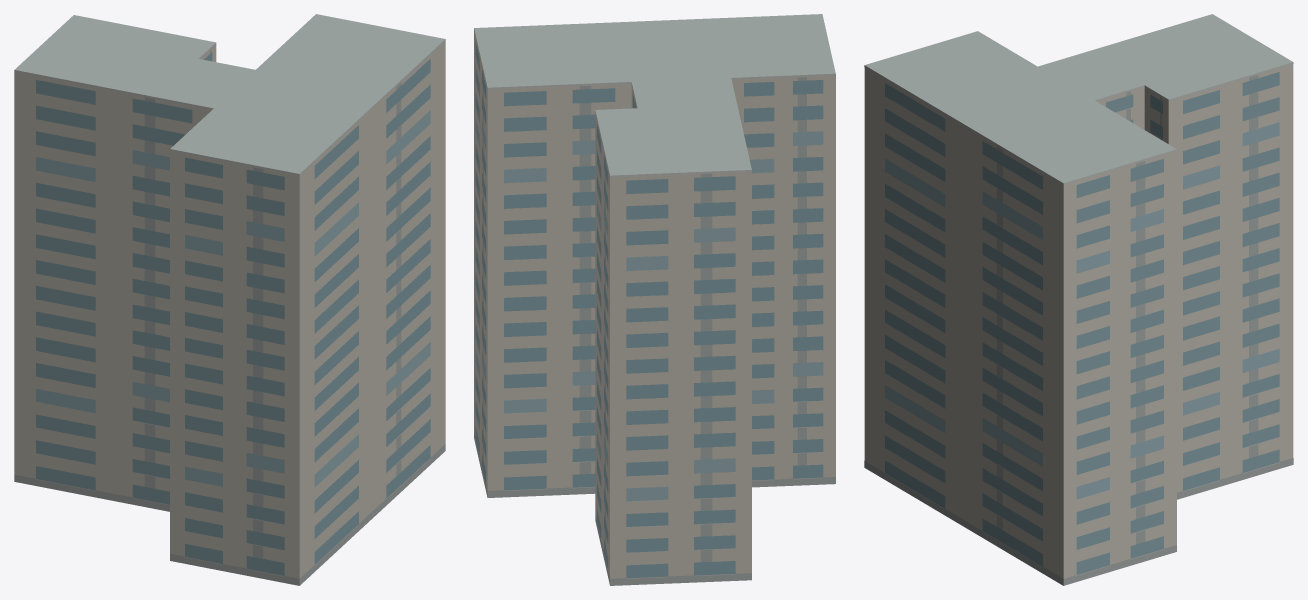
Rendered from residential-a0e6b03d-6a73-4d93-9202-977affc82346.glb.
The picture shows the model from 3 angles, left to right: view 1: azimuth 30°, elevation 25°; view 2: azimuth 150°, elevation 25°; view 3: azimuth 270°, elevation 25°; orthographic projection. The views are drawn at different scales.
Parts seen in each view (by area): view 1: residential-a0e6b03d-6a73-4d93-9202-977affc82346.tmp; view 2: residential-a0e6b03d-6a73-4d93-9202-977affc82346.tmp; view 3: residential-a0e6b03d-6a73-4d93-9202-977affc82346.tmp.
Boxes of the visible parts, x1=… form: residential-a0e6b03d-6a73-4d93-9202-977affc82346.tmp: x1=14, y1=14, x2=445, y2=585; residential-a0e6b03d-6a73-4d93-9202-977affc82346.tmp: x1=474, y1=14, x2=835, y2=585; residential-a0e6b03d-6a73-4d93-9202-977affc82346.tmp: x1=864, y1=14, x2=1293, y2=585.
Size of the model in its own units: 42.4 by 47 by 45.39.
